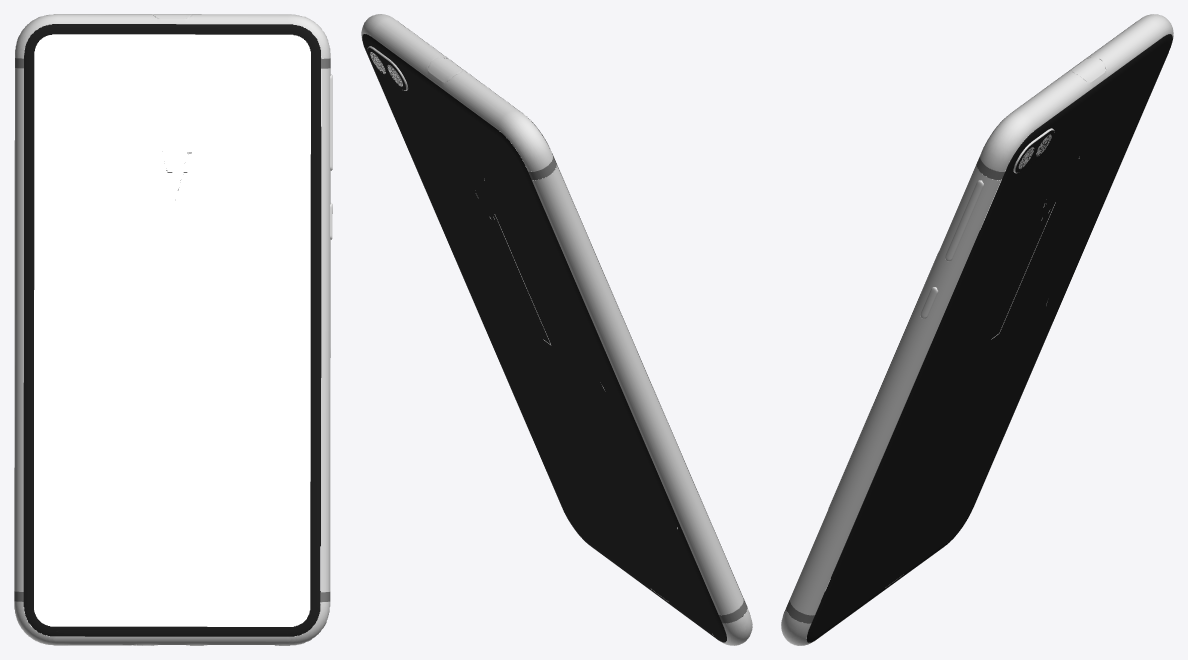
The model's file is mobile-transformed.glb.
3 renders of one model, left to right at view 1: azimuth 30°, elevation 25°; view 2: azimuth 150°, elevation 25°; view 3: azimuth 270°, elevation 25°, orthographic. The views are drawn at different scales.
Parts seen in each view (by area): view 1: Object_11, Object_4; view 2: Object_4; view 3: Object_4.
Part boxes in pixels (left/top/right/bottom): Object_11: left=34, top=34, right=310, bottom=626; Object_4: left=14, top=14, right=332, bottom=645; Object_4: left=361, top=14, right=752, bottom=645; Object_4: left=781, top=14, right=1173, bottom=645.
Size of the model in its own units: 1.21 by 1.86 by 1.14.
2 materials, 2 textured.
